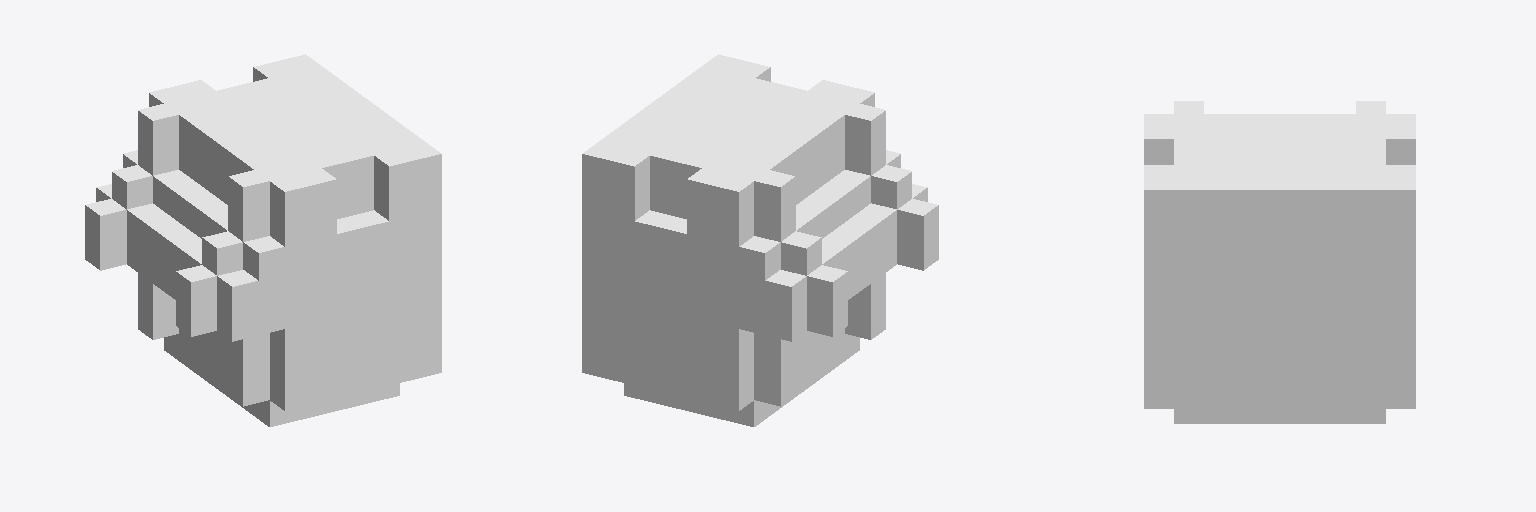
Rendered from pracGenny-3-body.obj.
3 renders of one model, left to right at view 1: azimuth 30°, elevation 25°; view 2: azimuth 150°, elevation 25°; view 3: azimuth 270°, elevation 25°, orthographic.
Visible parts, largest first — view 1: body; view 2: body; view 3: body.
Boxes of the visible parts, x1,y1,x2,y2 form: body: [85, 54, 441, 426]; body: [582, 54, 938, 426]; body: [1144, 101, 1415, 423].
Bounding box in the file's own units: 0.9 × 0.9 × 0.9.